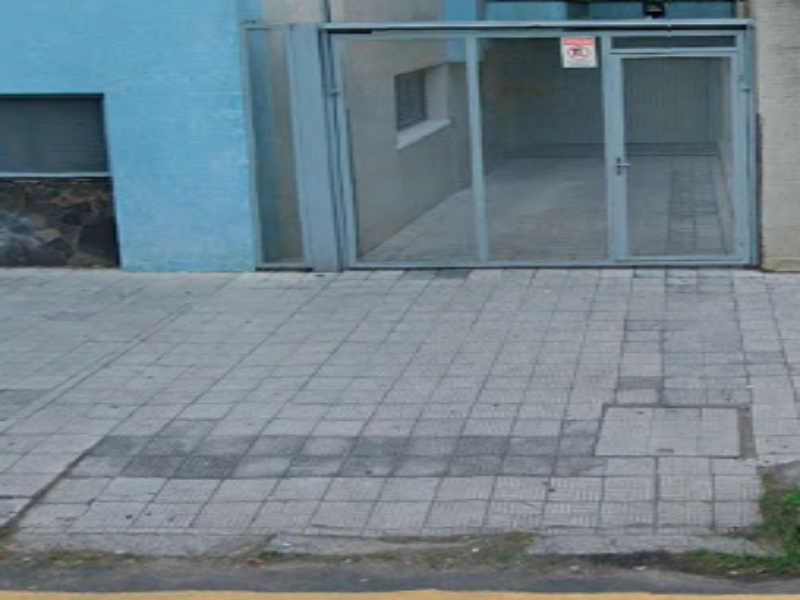v18: (16, 446, 775, 598)
